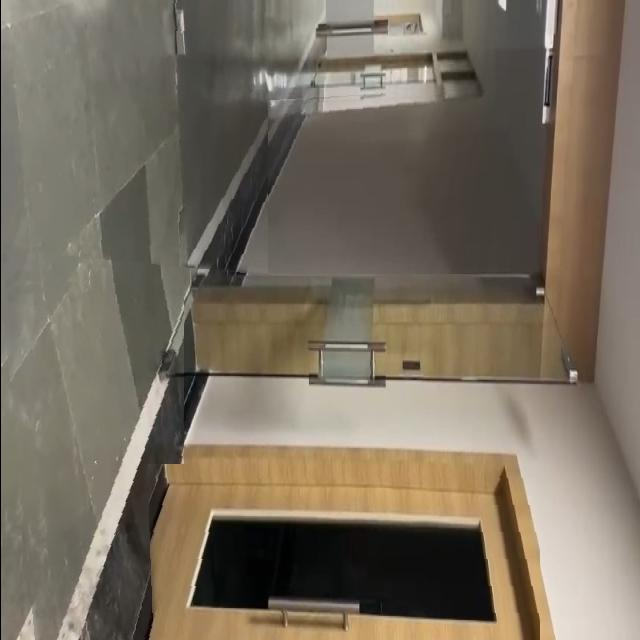door: (146, 464, 539, 640)
floor: (0, 0, 286, 276), (0, 272, 183, 640)
wall: (267, 86, 507, 274)
